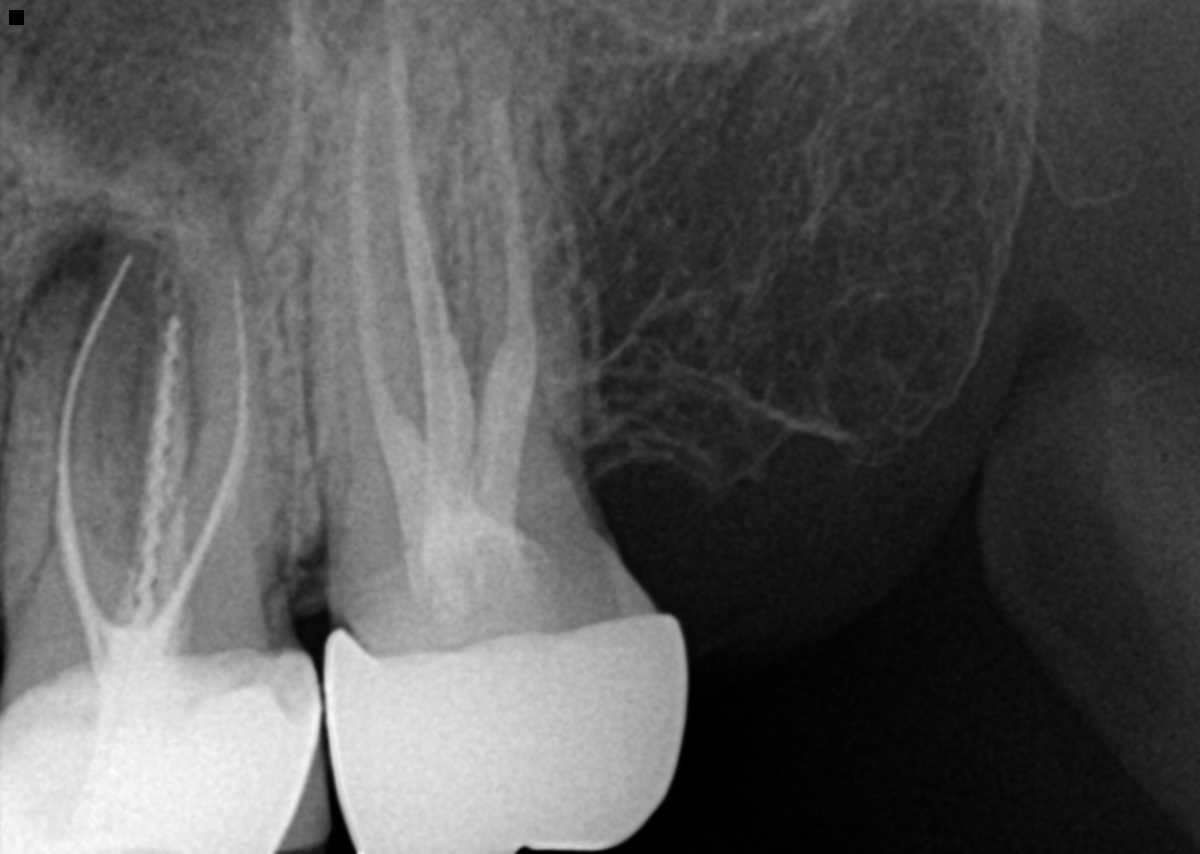Apical Lesion: (27, 208, 181, 336)
Distal Root: (457, 25, 589, 487), (146, 243, 294, 605)
Mesial Root: (305, 63, 446, 513), (0, 275, 141, 587)
Palatal Root: (329, 7, 620, 611), (17, 157, 267, 629)
Root Canal Filling: (387, 43, 476, 488), (151, 281, 249, 642), (54, 254, 133, 653), (116, 309, 186, 643), (477, 97, 538, 464)
